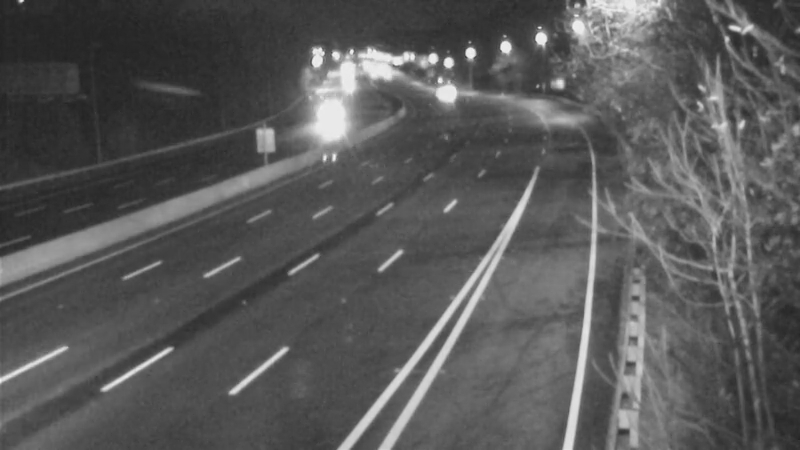vehicle: (417, 67, 467, 117), (302, 97, 352, 147)
